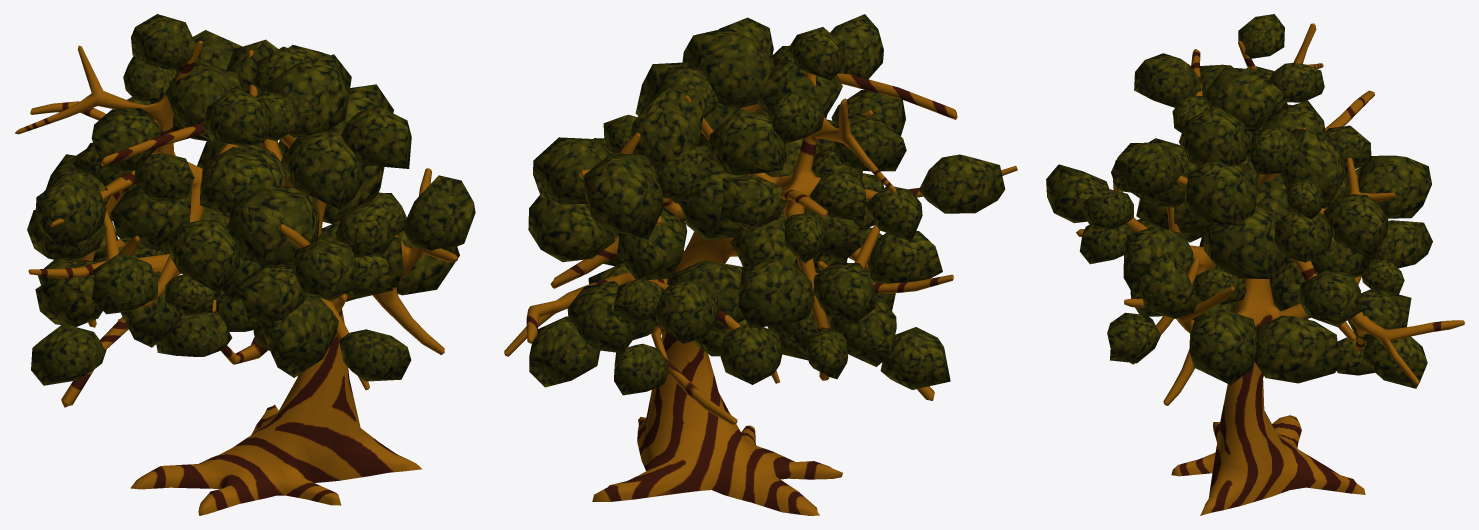
The model's file is tunnel_tree_C_1.fbx.
3 renders of one model, left to right at view 1: azimuth 30°, elevation 25°; view 2: azimuth 150°, elevation 25°; view 3: azimuth 270°, elevation 25°, orthographic. The views are drawn at different scales.
Parts seen in each view (by area): view 1: tunnel_Tree_C_leaf_1, tunnel_Tree_C_trunk_C_1; view 2: tunnel_Tree_C_leaf_1, tunnel_Tree_C_trunk_C_1; view 3: tunnel_Tree_C_leaf_1, tunnel_Tree_C_trunk_C_1.
Boxes of the visible parts, left/top/right/bottom form: tunnel_Tree_C_leaf_1: left=27, top=14, right=475, bottom=385; tunnel_Tree_C_trunk_C_1: left=15, top=40, right=457, bottom=515; tunnel_Tree_C_leaf_1: left=528, top=14, right=1005, bottom=395; tunnel_Tree_C_trunk_C_1: left=504, top=71, right=1017, bottom=515; tunnel_Tree_C_leaf_1: left=1046, top=14, right=1432, bottom=388; tunnel_Tree_C_trunk_C_1: left=1076, top=23, right=1464, bottom=515.
Size of the model in its own units: 1189 by 1271 by 1184.
